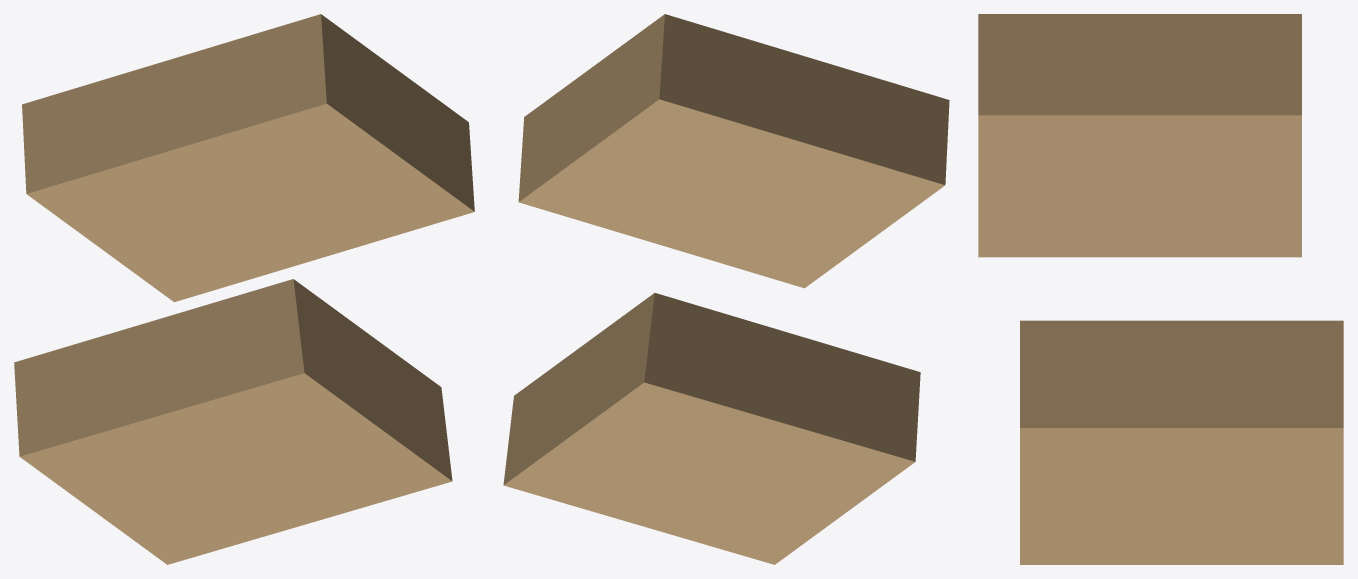
3 renders of one model, left to right at view 1: azimuth 30°, elevation 25°; view 2: azimuth 150°, elevation 25°; view 3: azimuth 270°, elevation 25°, orthographic. The views are drawn at different scales.
Parts seen in each view (by area): view 1: 0_3_0_1_2_1_2_0_1; view 2: 0_3_0_1_2_1_2_0_1; view 3: 0_3_0_1_2_1_2_0_1.
Part boxes in pixels (x1,y1,x2,y2): 0_3_0_1_2_1_2_0_1: (14,14,474,564); 0_3_0_1_2_1_2_0_1: (503,14,949,564); 0_3_0_1_2_1_2_0_1: (978,14,1343,564).
Bounding box in the file's own units: 28.55 × 34.7 × 27.1.
